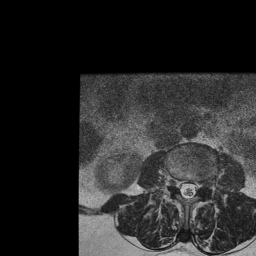CCS_normal: (185, 174, 191, 205)
LFS_normal: (200, 170, 207, 195)
LLS_normal: (191, 174, 199, 201)
RFS_normal: (171, 168, 178, 193)
RLS_normal: (178, 172, 185, 201)
